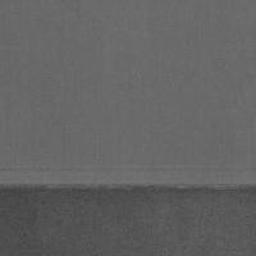Welding line: (0, 184, 256, 191)
